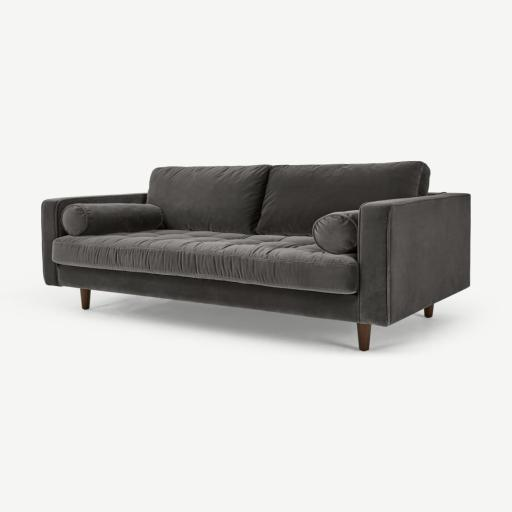back_cushion: (156, 161, 427, 241)
base: (53, 269, 313, 317)
left_arm: (312, 191, 470, 328)
legs: (321, 320, 336, 351), (418, 305, 429, 328), (78, 293, 89, 315)
right_arm: (42, 204, 78, 256), (43, 257, 53, 289), (120, 206, 155, 210)
seat_cushion: (45, 238, 311, 284)
two-seater: (0, 0, 511, 512)
